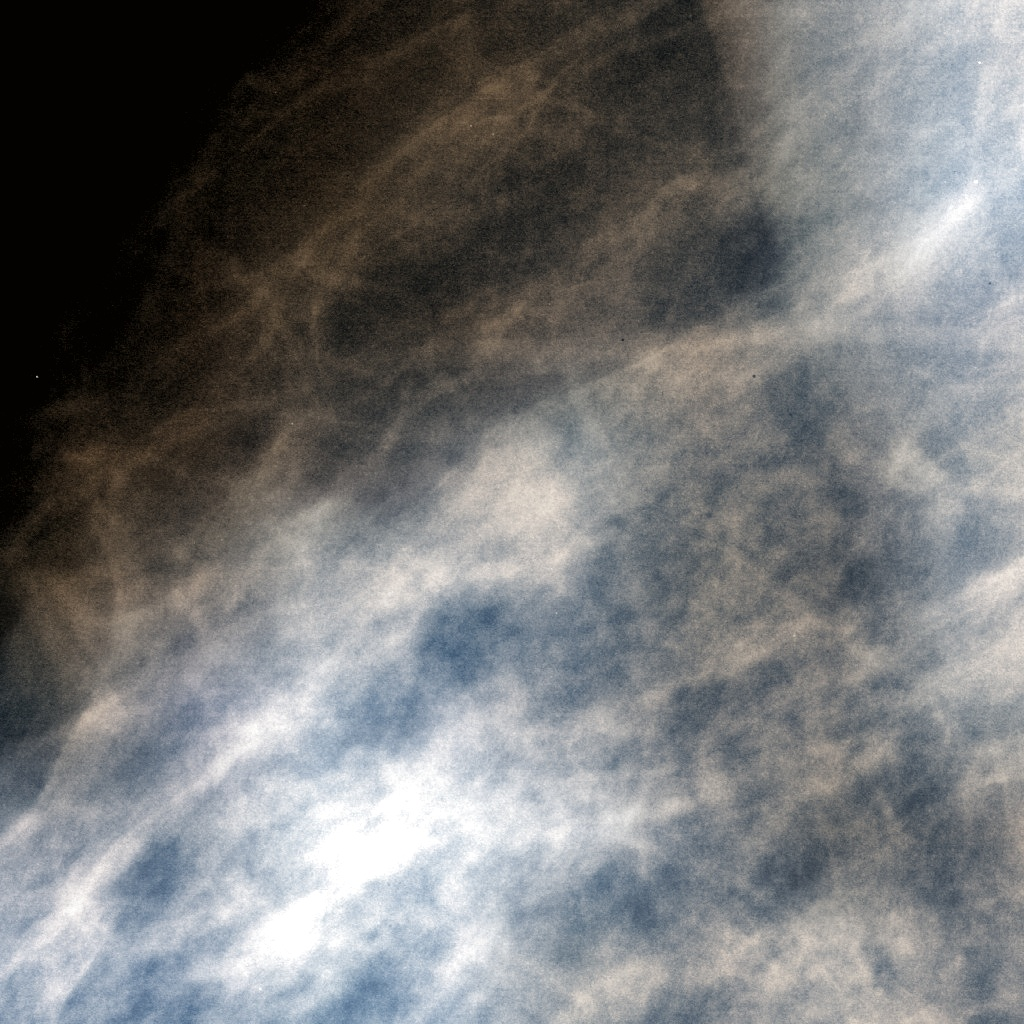tumor: (388, 395, 636, 629)
